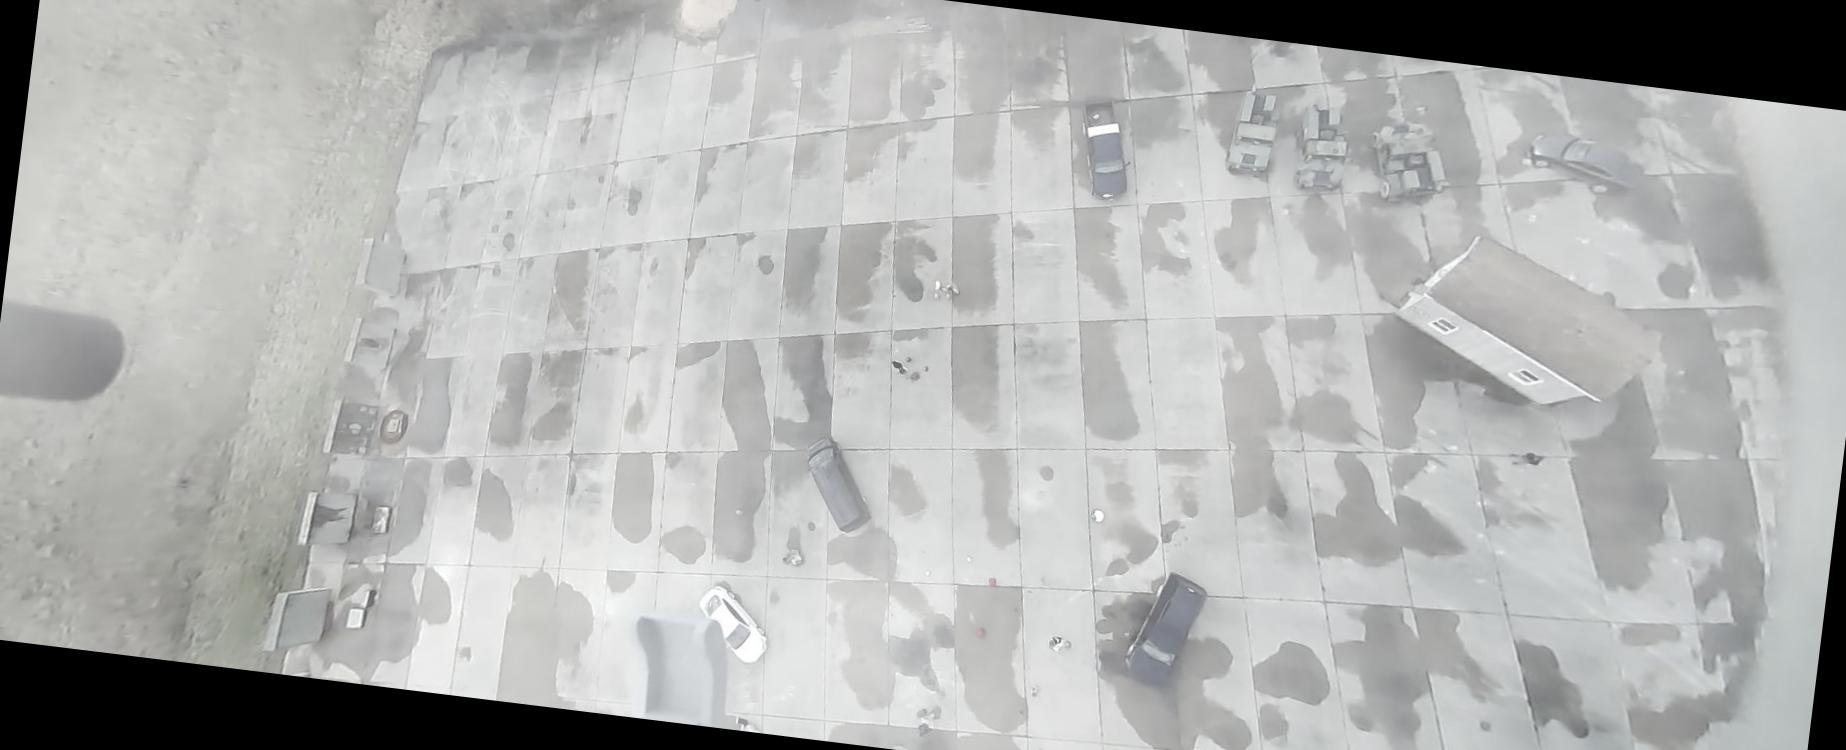vehicle: (1122, 568, 1209, 690), (1522, 128, 1648, 199), (797, 433, 881, 536), (1071, 98, 1138, 203), (692, 584, 773, 664)
